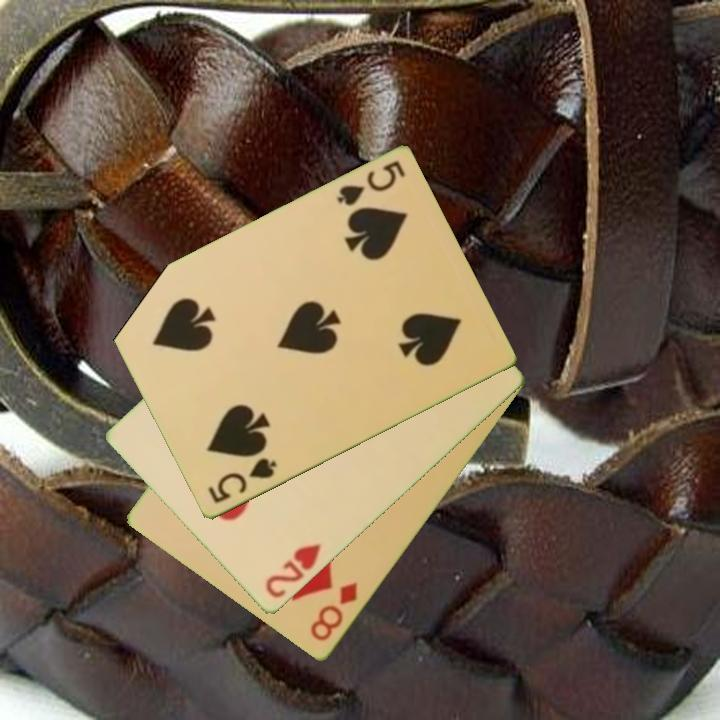2h: (261, 540, 324, 602)
5s: (204, 454, 280, 507), (333, 157, 408, 210)
8d: (306, 579, 361, 645)
